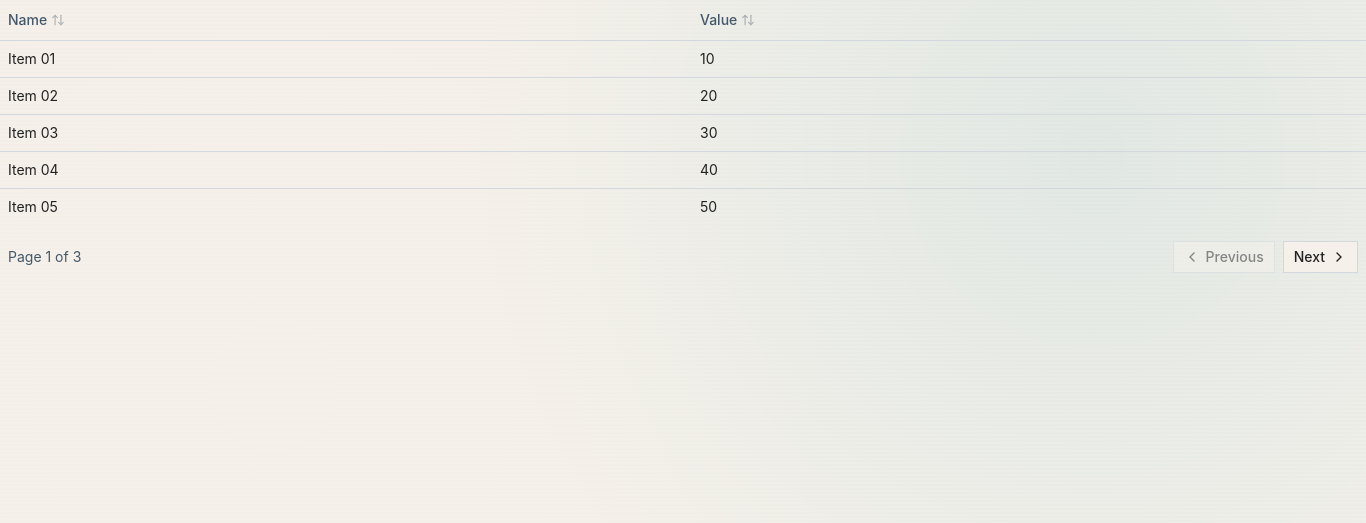
Test: DataTable - pagination › disables Next button on last page
Click the button "Next". click: coordinates (1320, 256)
box: [1283, 240, 1358, 272]
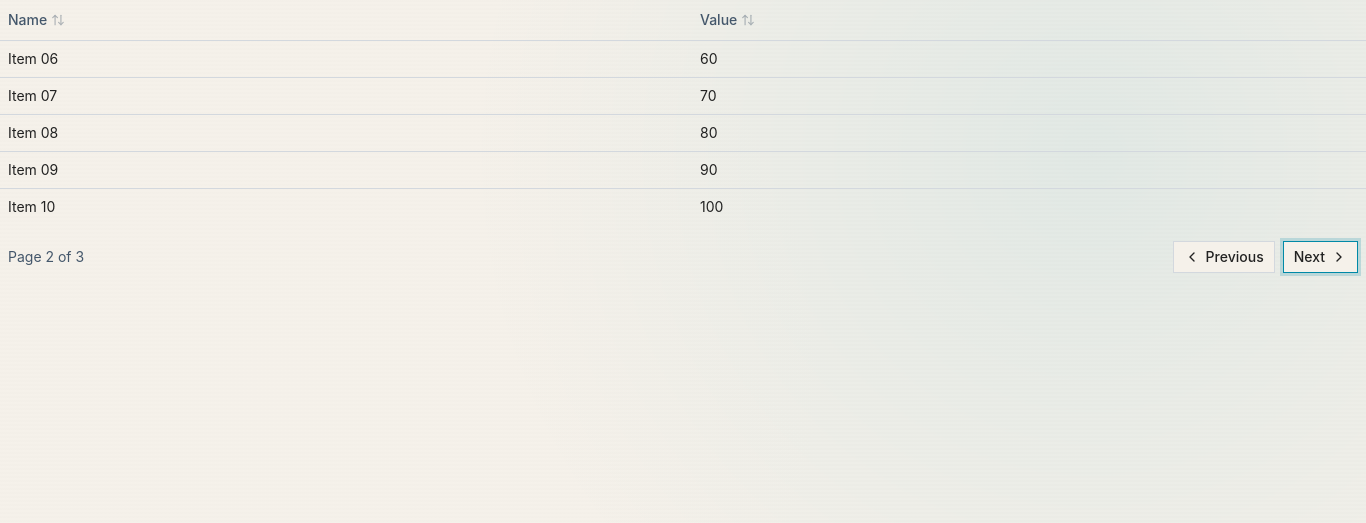
Click the button "Next". click: coordinates (1320, 256)
box: [1283, 240, 1358, 272]
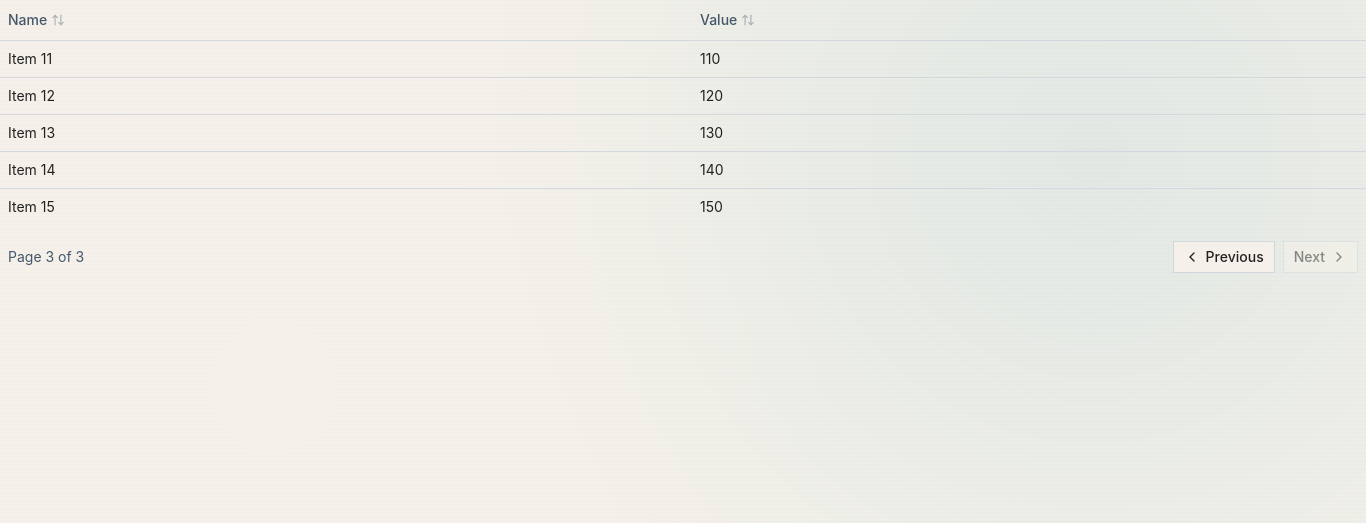
Expected: the text "Page 3 of 3" is shown, [8, 246, 84, 266]
Expected: the button "Next" is disabled, [1283, 240, 1358, 272]
